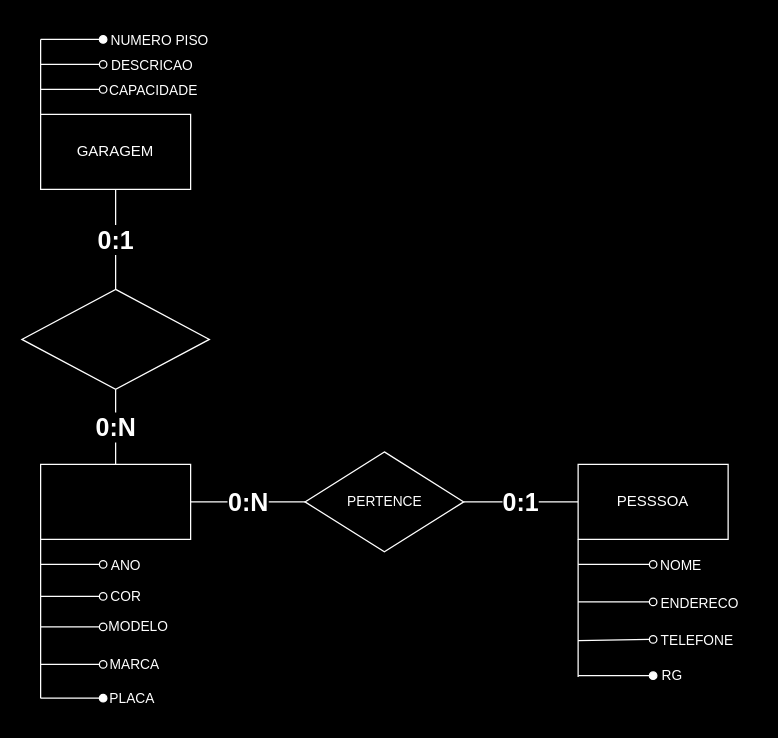
Image size: 778x738. Some labels were removed from this diagram. The box of each missing label's shape, as (x1, y1, x2, y2) in pixels:
ESTACIONAR: (21, 288, 209, 389)
VEICULO: (39, 463, 191, 539)
